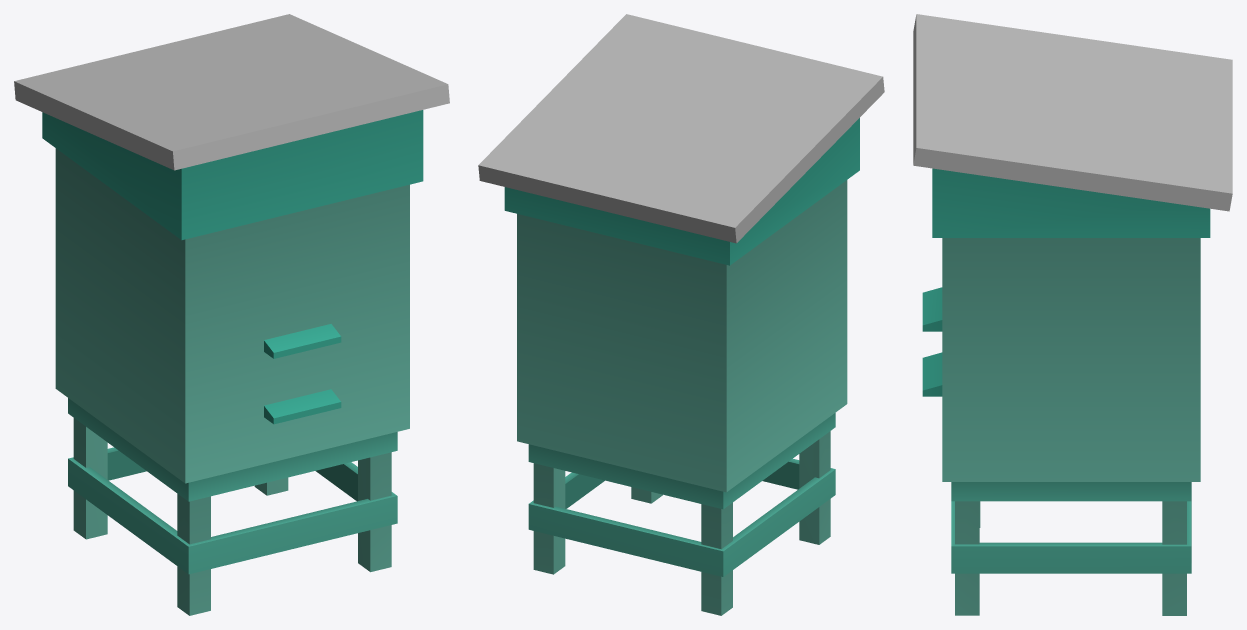
File: apiary_002.glb
3 renders of one model, left to right at view 1: azimuth 30°, elevation 25°; view 2: azimuth 150°, elevation 25°; view 3: azimuth 270°, elevation 25°, orthographic. The views are drawn at different scales.
Parts seen in each view (by area): view 1: apiary_002; view 2: apiary_002; view 3: apiary_002.
Boxes of the visible parts, bbox=[...] form: apiary_002: bbox=[14, 14, 449, 615]; apiary_002: bbox=[478, 14, 884, 615]; apiary_002: bbox=[913, 14, 1232, 615].
Size of the model in its own units: 0.7509 by 1.27 by 0.7572.
1 material, 1 textured.
